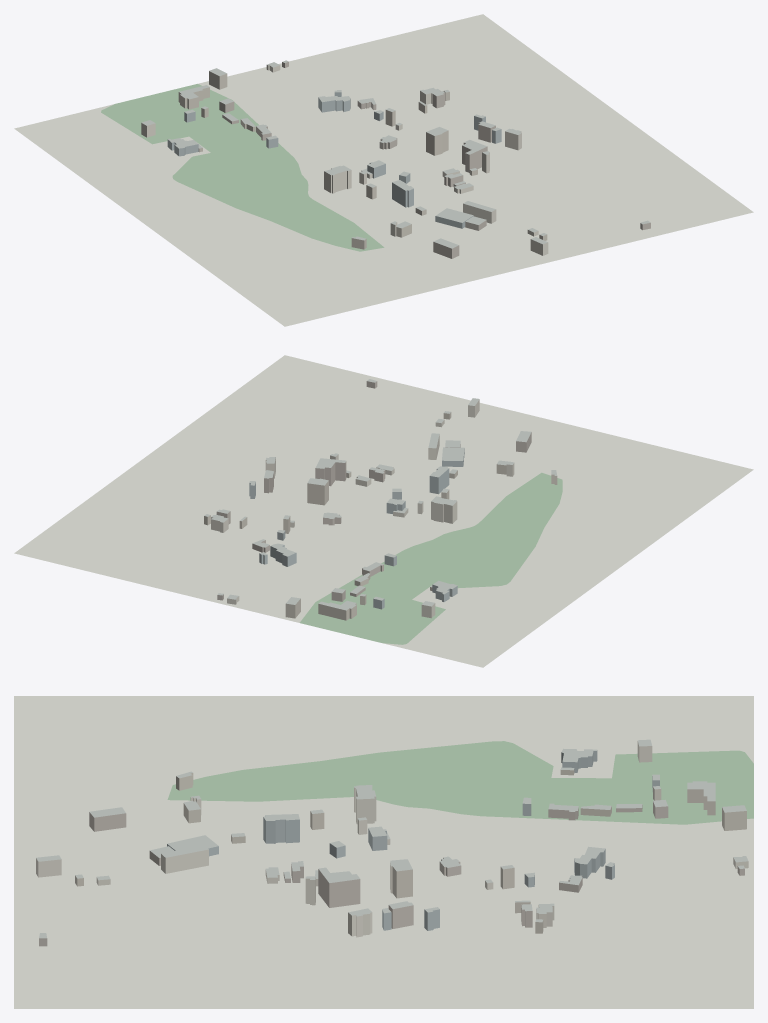
The picture shows the model from 3 angles, top to bottom: view 1: azimuth 30°, elevation 25°; view 2: azimuth 150°, elevation 25°; view 3: azimuth 270°, elevation 25°; orthographic projection. The views are drawn at different scales.
Parts seen in each view (by area): view 1: city; view 2: city; view 3: city.
Part boxes in pixels (x1,y1,x2,y2): city: [14, 14, 753, 326]; city: [14, 355, 753, 667]; city: [14, 696, 753, 1008].
Bounding box in the file's own units: 500 × 20.2 × 500.
